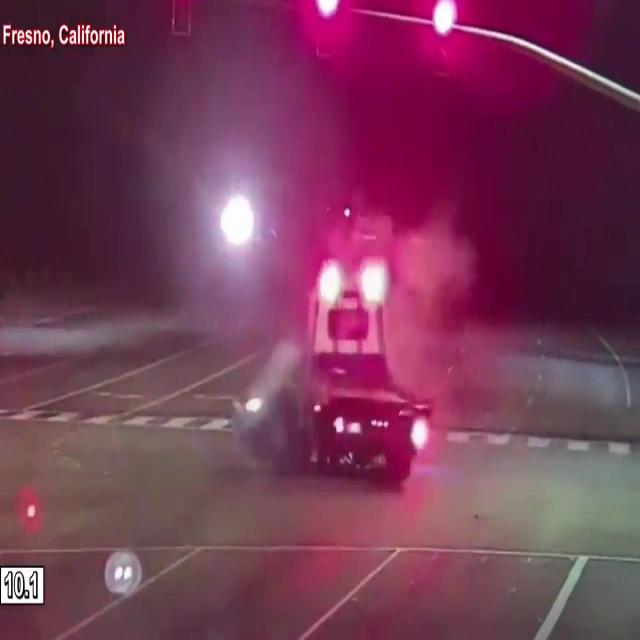accident: (222, 262, 441, 527)
